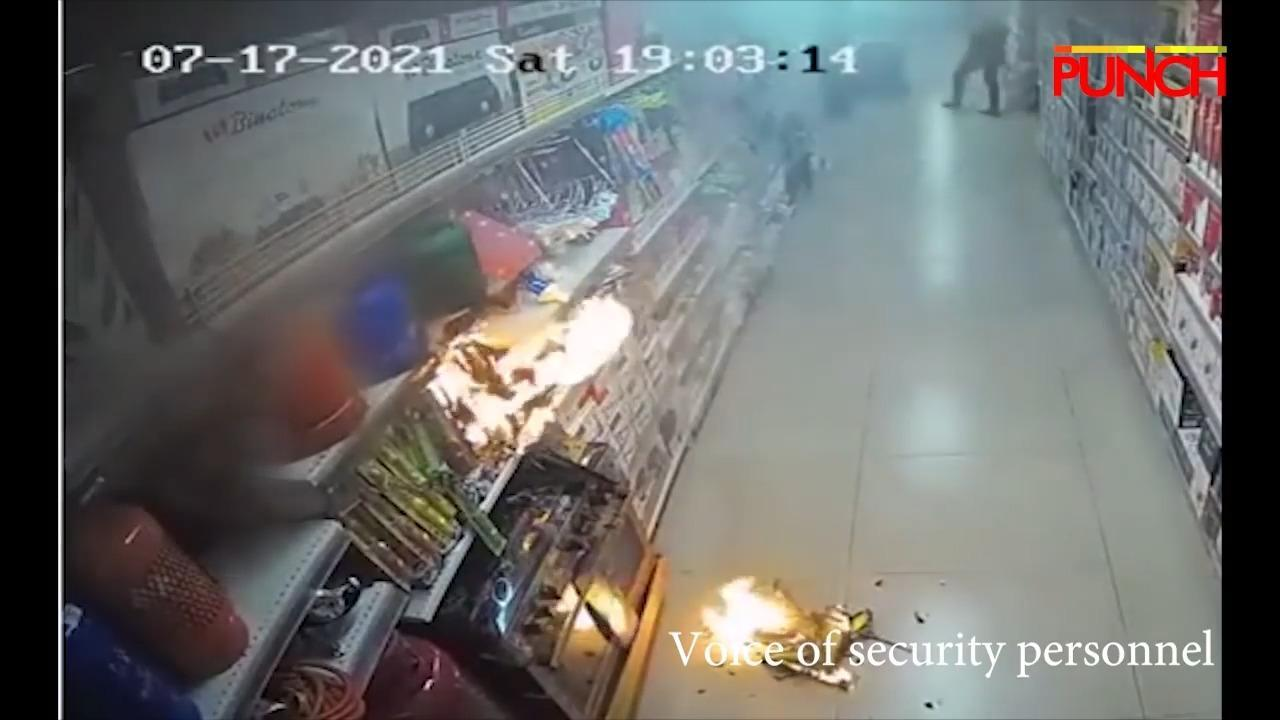fire: (428, 294, 633, 442), (702, 577, 788, 650)
